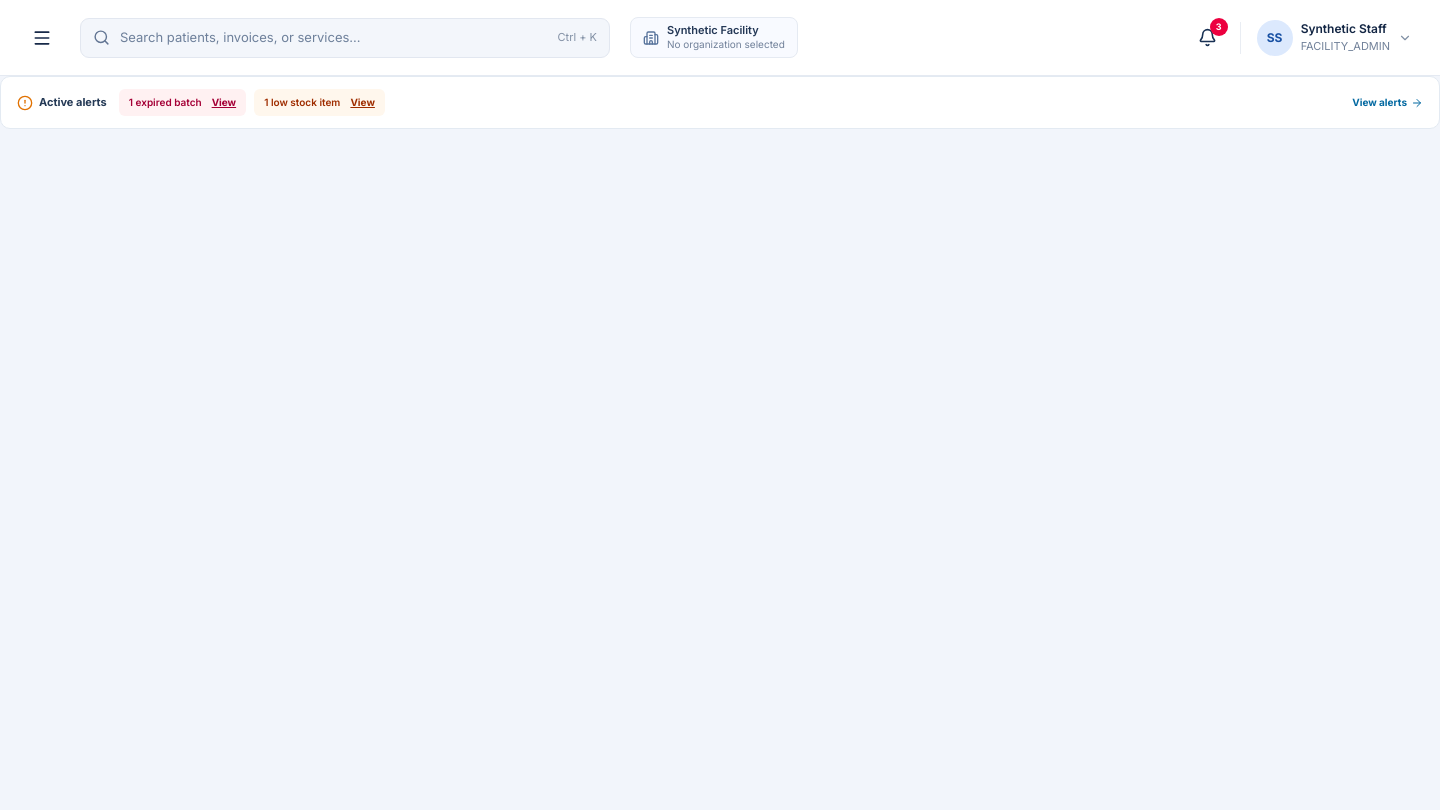
Test case: notification centre behavior › shows actual counts, severity filters, details, read actions and persistent active alert strip
Check: the element named "Active operational alerts" shows "1 expired batch", box top-left (0, 76), bottom-right (1439, 129)
Click the button named "Notifications, 3 unread, critical alerts active": click(1208, 38) top-left (1188, 18), bottom-right (1228, 58)
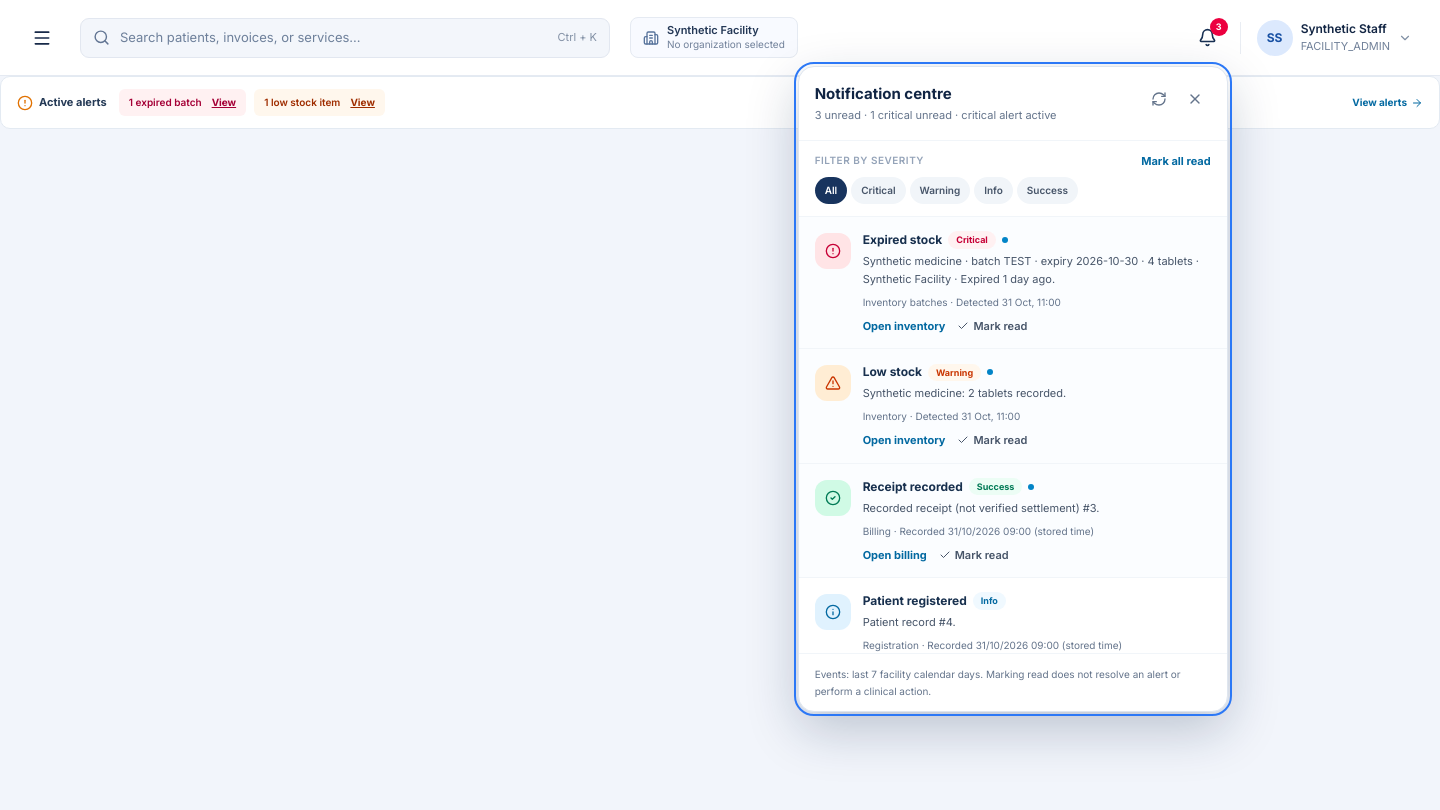
Check: the text "3 unread · 1 critical unread · critical alert active" is shown, box top-left (815, 107), bottom-right (1056, 124)
Check: the text "Synthetic medicine · batch TEST" is shown, box top-left (863, 254), bottom-right (1199, 286)
Check: the text "Recorded receipt (not verified settlement) #3." is shown, box top-left (863, 501), bottom-right (1099, 515)
Click the button "Critical": click(878, 190) top-left (851, 177), bottom-right (906, 204)
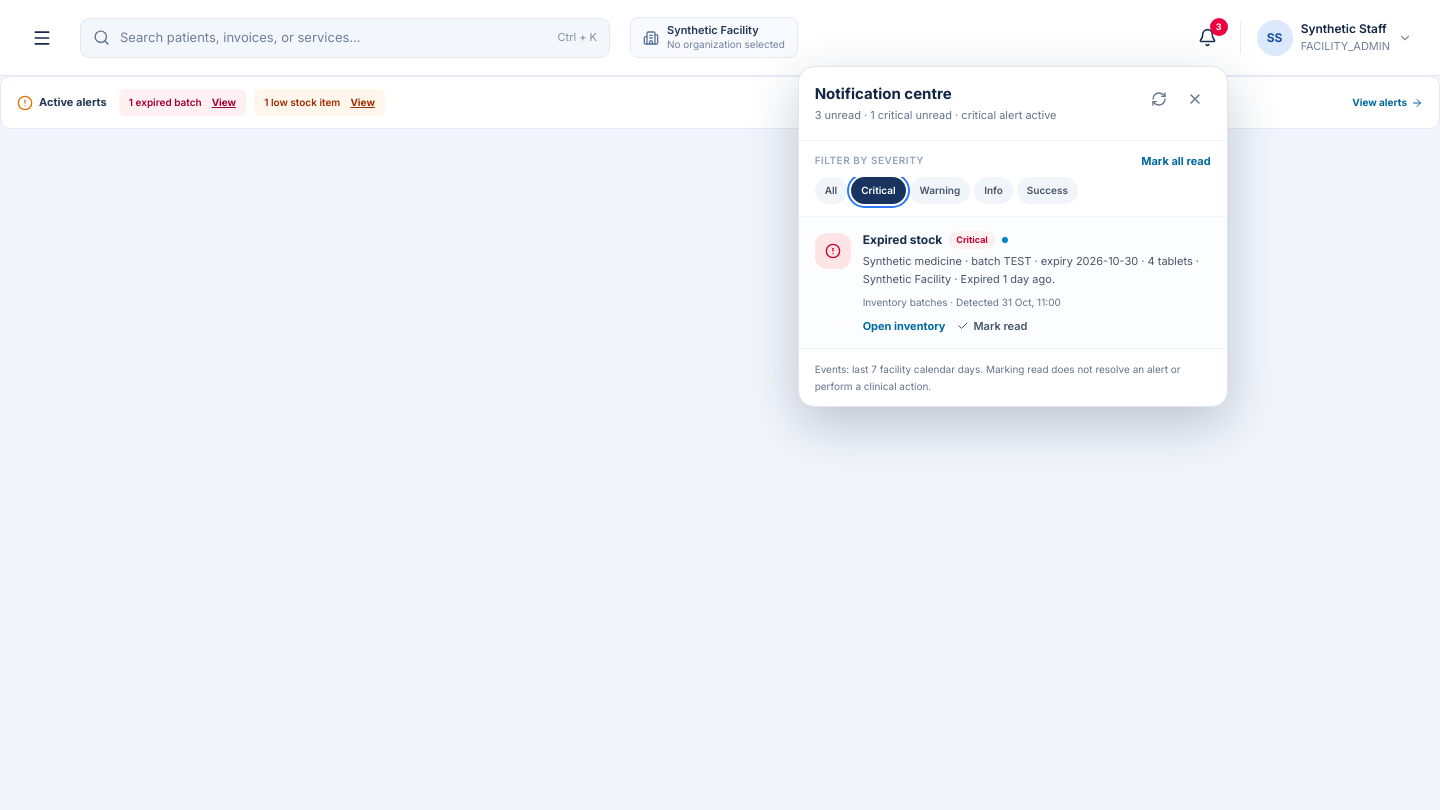
Check: the text "Expired stock" is shown, box top-left (863, 231), bottom-right (942, 249)
Click the button with aria-label "Mark Expired stock read": click(992, 326) top-left (957, 318), bottom-right (1027, 334)
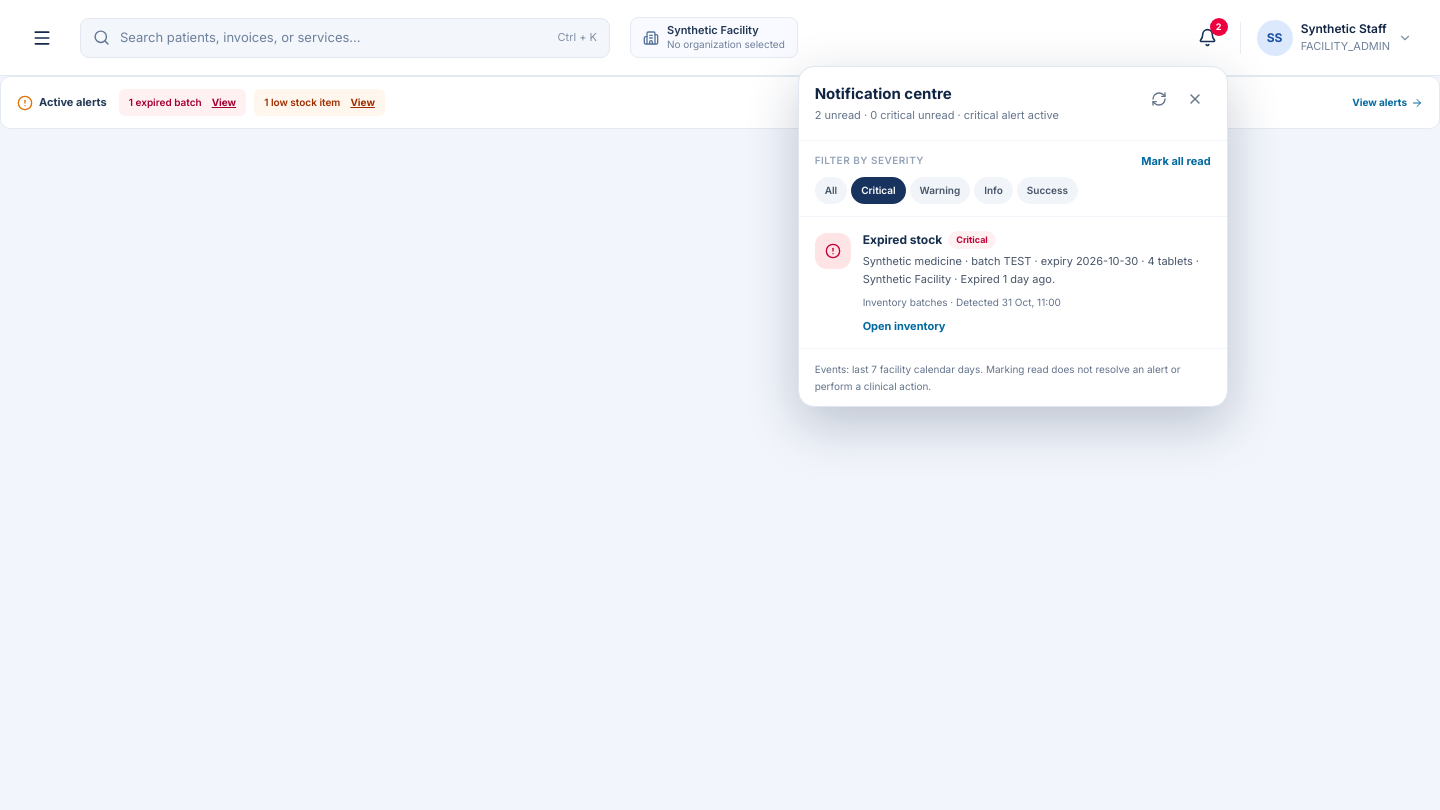
Check: the button named "Notifications, 2 unread, critical alerts active" is shown, box top-left (1188, 18), bottom-right (1228, 58)
Click the button "All": click(831, 190) top-left (815, 177), bottom-right (847, 204)
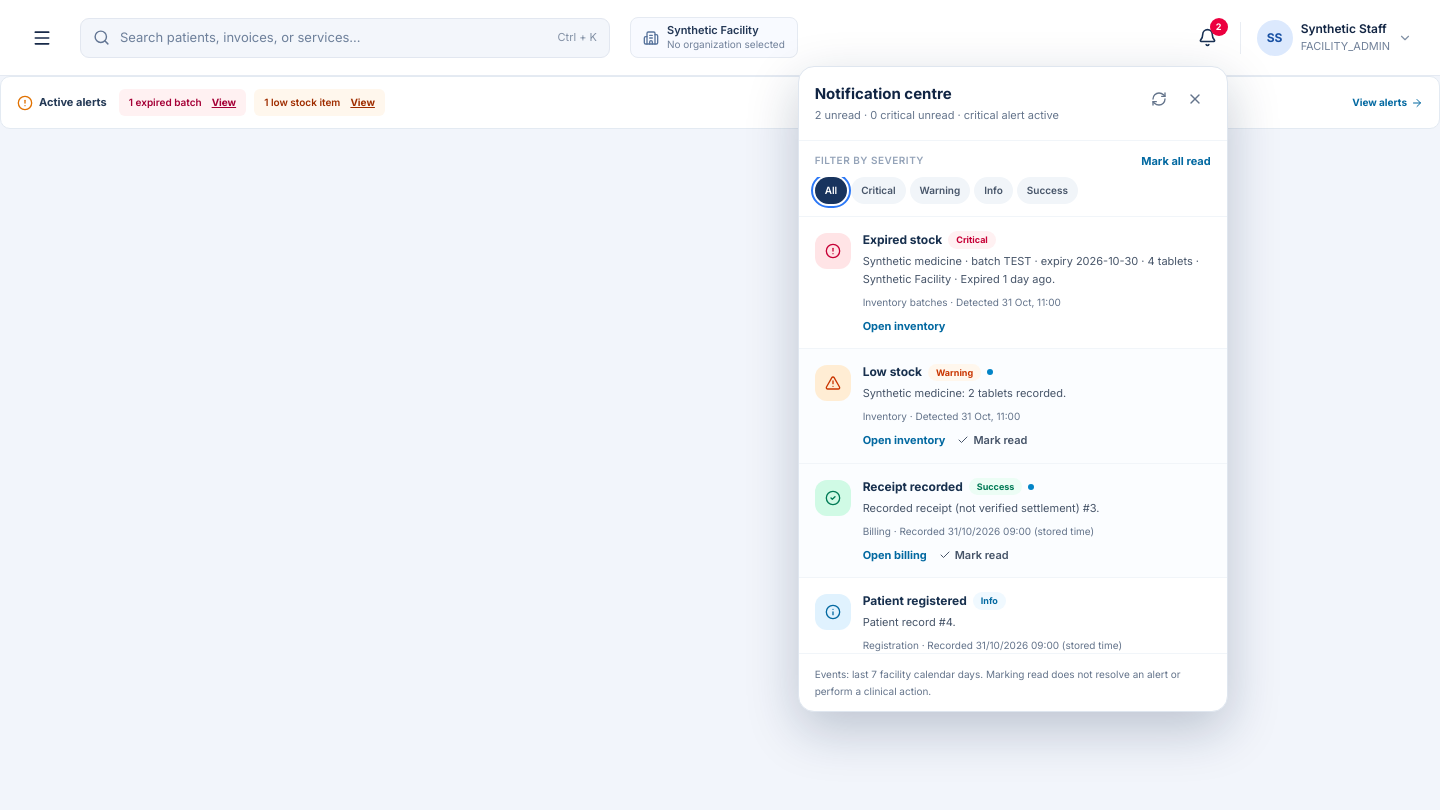
Click the button "Mark all read": click(1176, 161) top-left (1141, 152), bottom-right (1211, 169)
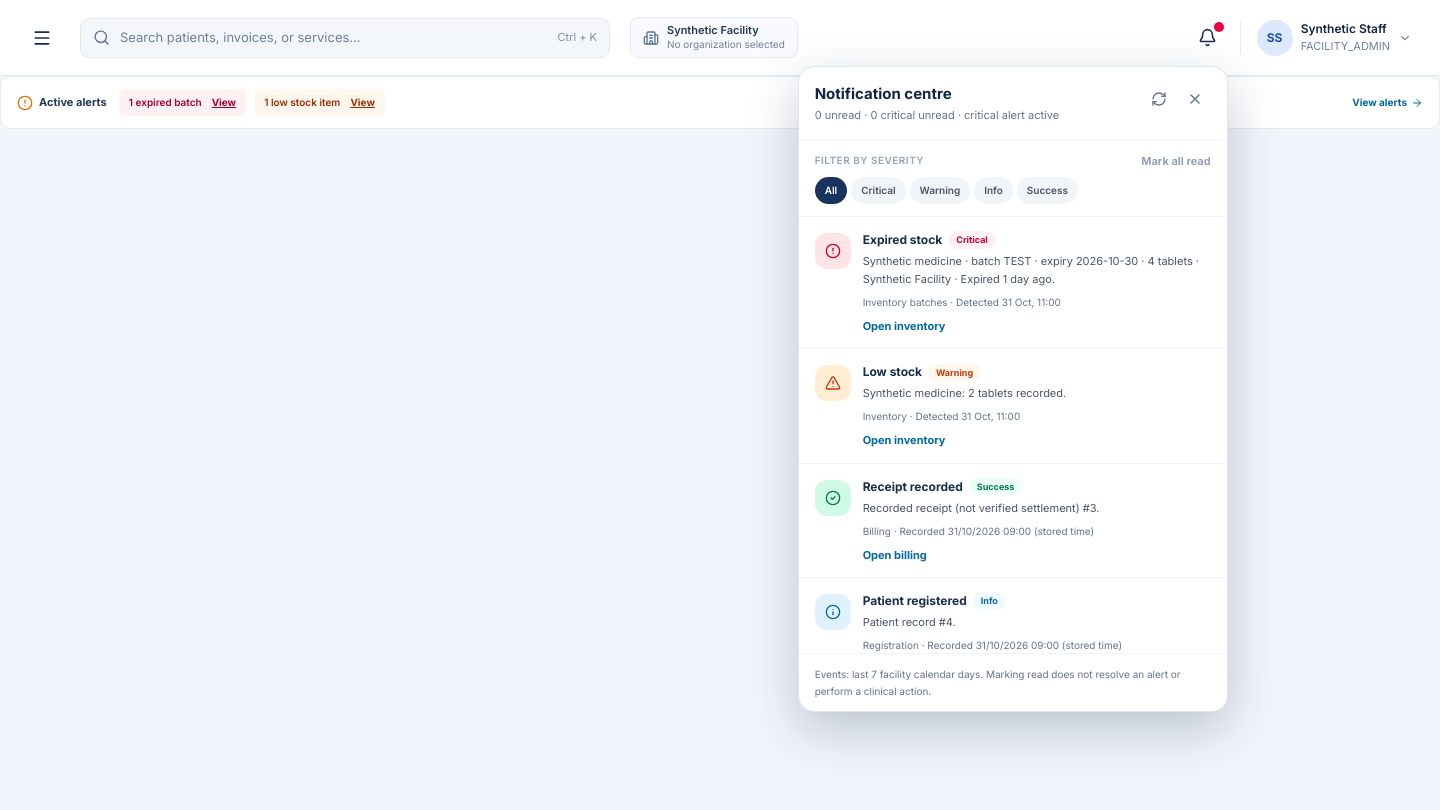
Check: the element named "Active operational alerts" shows "expired batch", box top-left (136, 96), bottom-right (202, 108)
Check: the text "Marking read does not resolve an alert" is shown, box top-left (815, 668), bottom-right (1181, 697)
Check: the button named "Notifications, 0 unread, critical alerts active" is shown, box top-left (1188, 18), bottom-right (1228, 58)
Press Escape
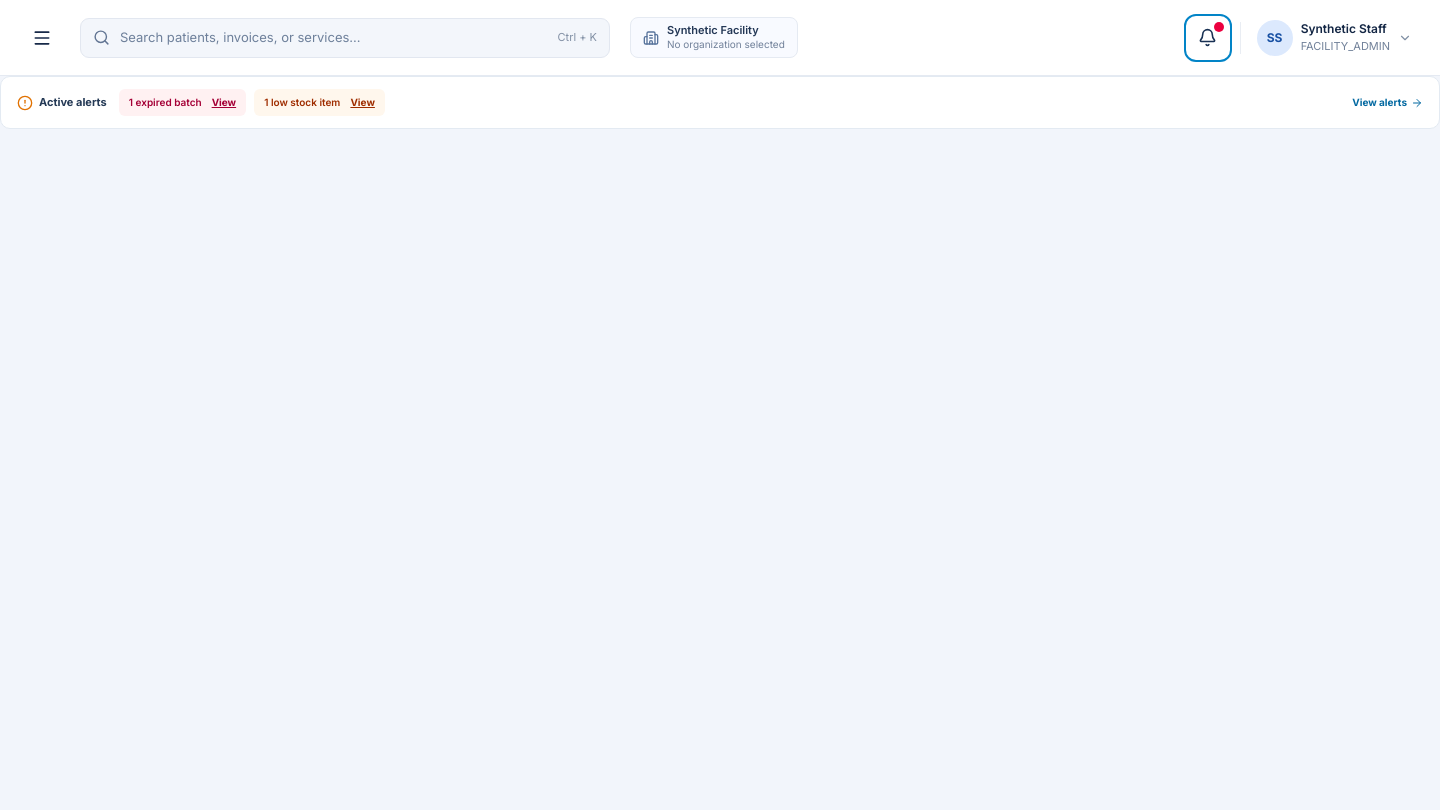
Check: the heading "Notification centre" is gone
